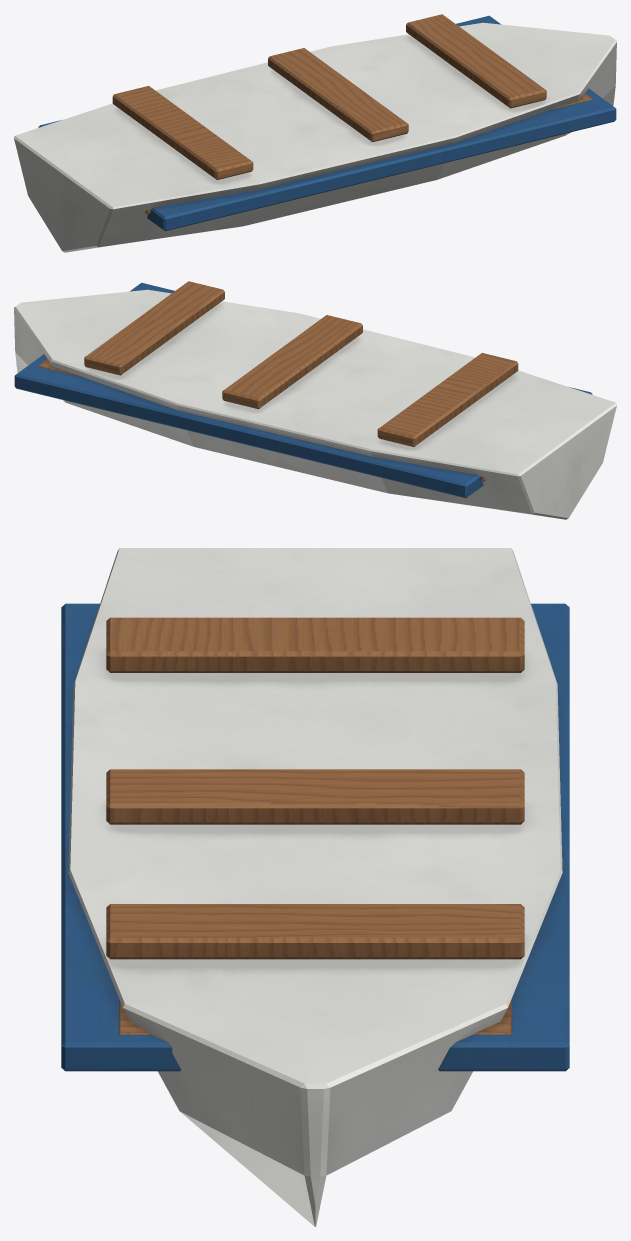
The model's file is roddbat_tex.glb.
3 renders of one model, top to bottom at view 1: azimuth 30°, elevation 25°; view 2: azimuth 150°, elevation 25°; view 3: azimuth 270°, elevation 25°, orthographic. The views are drawn at different scales.
Parts seen in each view (by area): view 1: roddbat; view 2: roddbat; view 3: roddbat.
Boxes of the visible parts, box(x1,y1,x2,y2) form: roddbat: box(14, 14, 616, 252); roddbat: box(14, 281, 616, 519); roddbat: box(61, 548, 569, 1226).
Size of the model in its own units: 3.2 by 0.5958 by 1.27.
3 materials, 3 textured.
